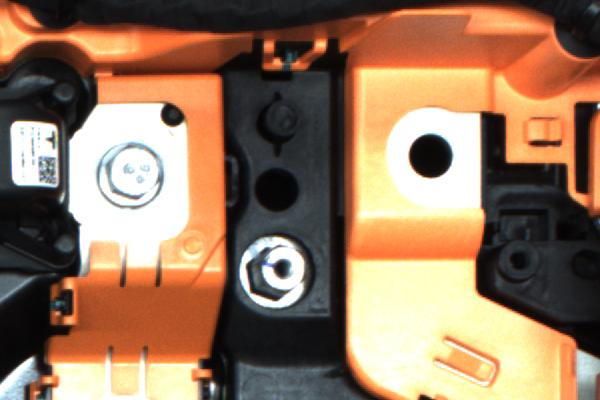nut_b: (94, 138, 178, 220)
